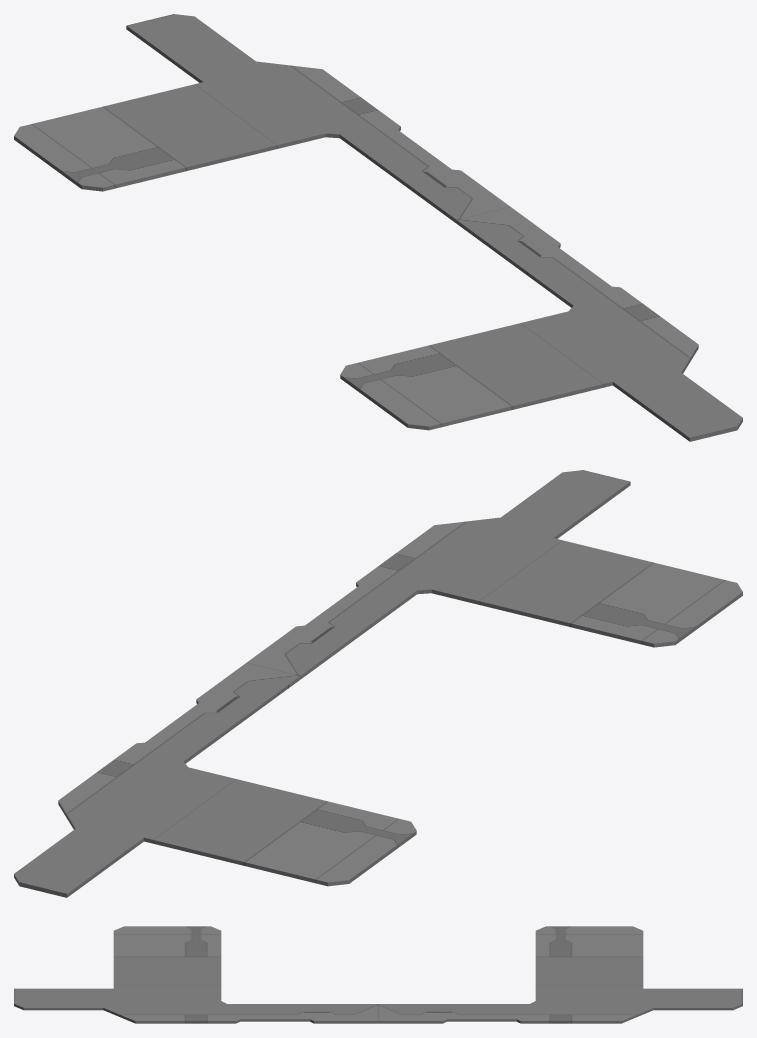
File: SM_FloorPiece_2.fbx
3 renders of one model, top to bottom at view 1: azimuth 30°, elevation 25°; view 2: azimuth 150°, elevation 25°; view 3: azimuth 270°, elevation 25°, orthographic. The views are drawn at different scales.
Parts seen in each view (by area): view 1: SM_FloorPiece_B; view 2: SM_FloorPiece_B; view 3: SM_FloorPiece_B.
Part boxes in pixels (x1,y1,x2,y2): SM_FloorPiece_B: (14,14,742,441); SM_FloorPiece_B: (14,470,742,897); SM_FloorPiece_B: (14,926,742,1023).
Bounding box in the file's own units: 228 × 2.76 × 742.
